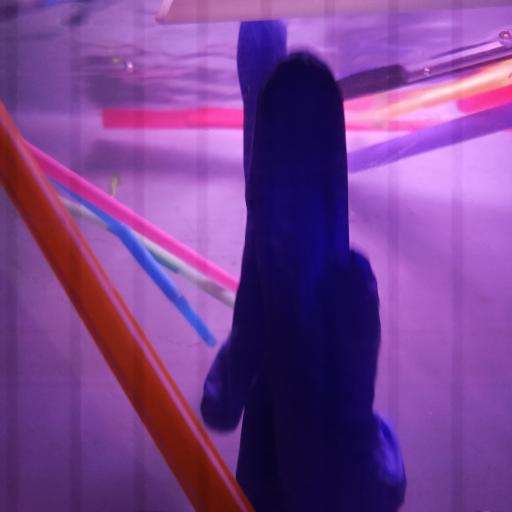glove: (198, 18, 408, 512)
plastic_straw: (0, 101, 254, 512), (20, 135, 240, 294), (46, 177, 218, 352), (60, 196, 235, 307), (348, 100, 512, 176), (345, 58, 512, 126), (155, 1, 512, 27), (102, 106, 244, 130), (335, 64, 410, 98), (456, 82, 512, 114)
